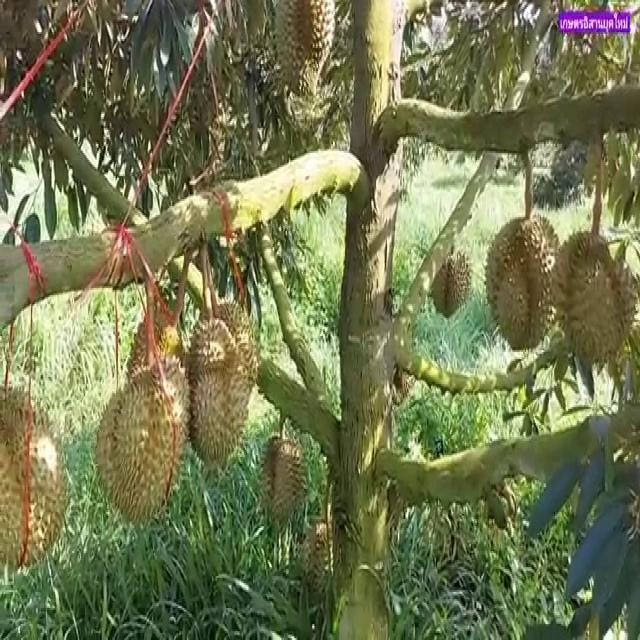durian: (93, 366, 190, 528), (2, 380, 71, 578), (546, 229, 639, 372), (485, 215, 569, 355), (183, 313, 252, 470), (119, 297, 190, 426), (194, 296, 260, 402), (270, 0, 337, 101), (260, 428, 309, 532), (298, 512, 357, 588), (426, 243, 476, 324)
